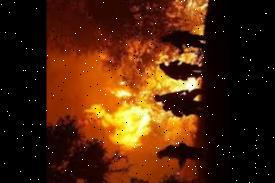fire: (160, 0, 210, 144), (72, 78, 161, 154)
